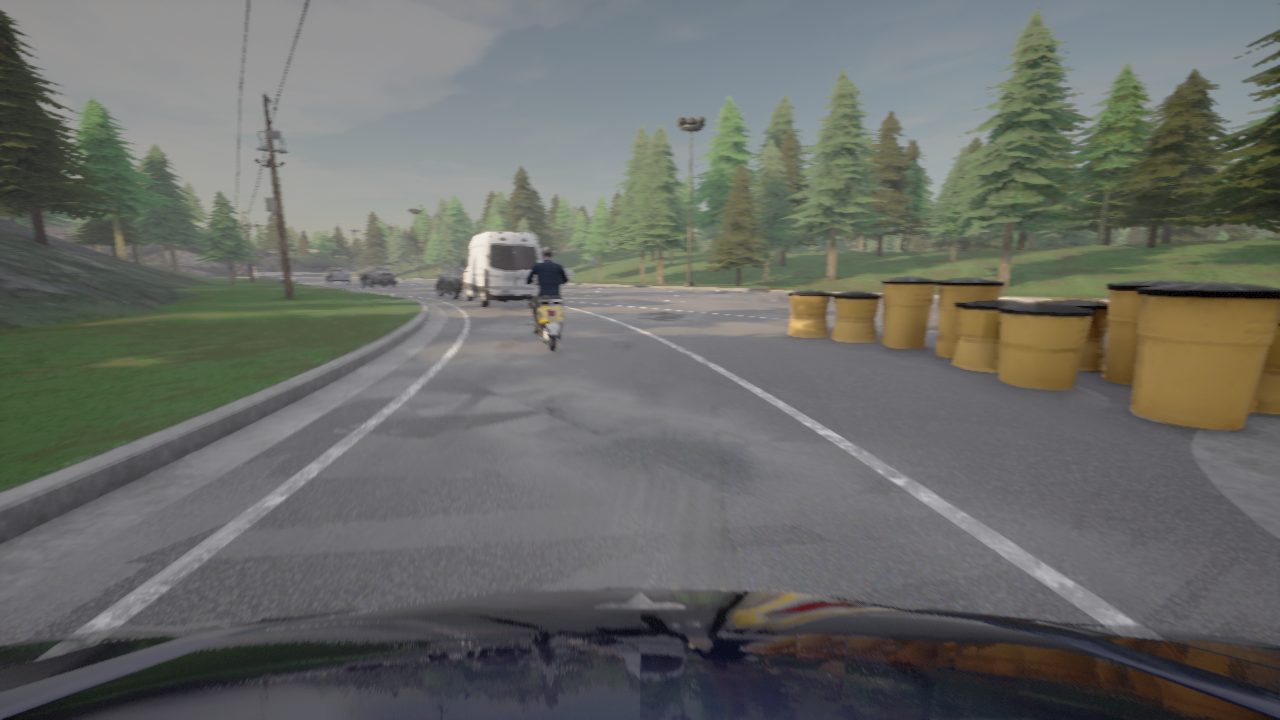cyclist: (0, 588, 1279, 719), (460, 231, 540, 307), (520, 270, 572, 352), (436, 266, 464, 299), (360, 269, 396, 288), (324, 271, 350, 284)
